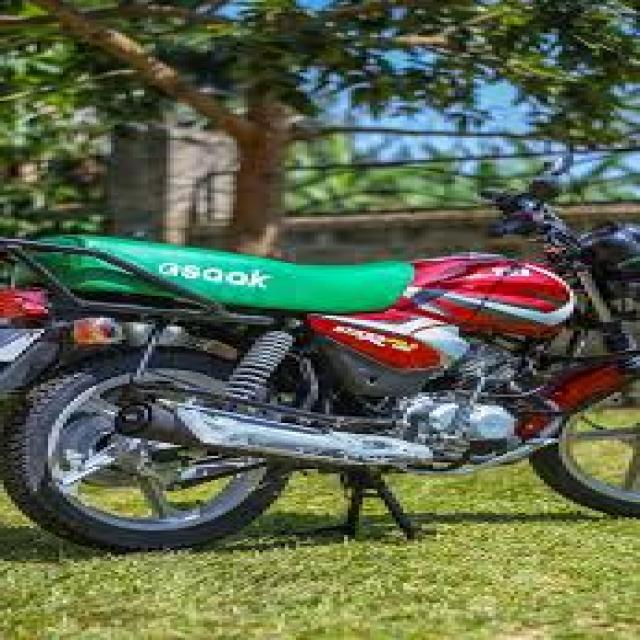bodaboda: (0, 143, 640, 640)
